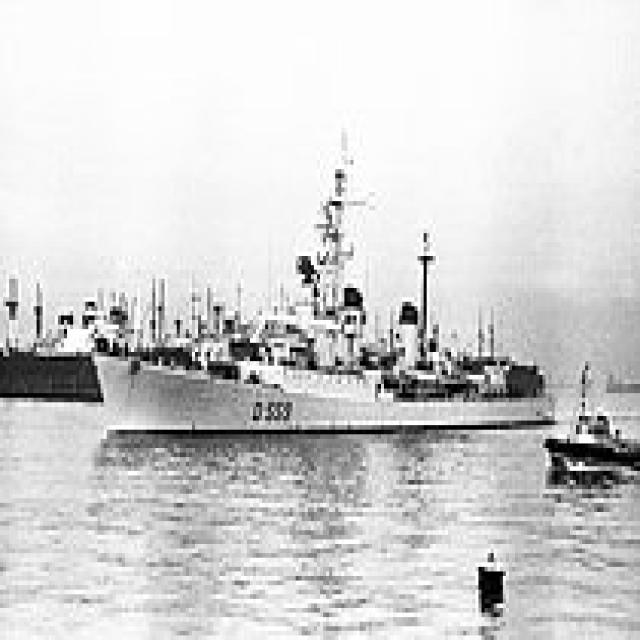Warship: (89, 119, 552, 443)
